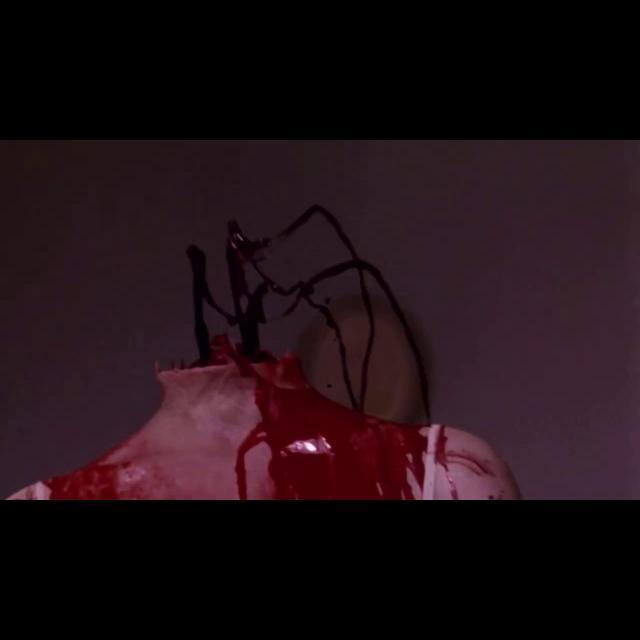blood: (8, 220, 521, 500)
